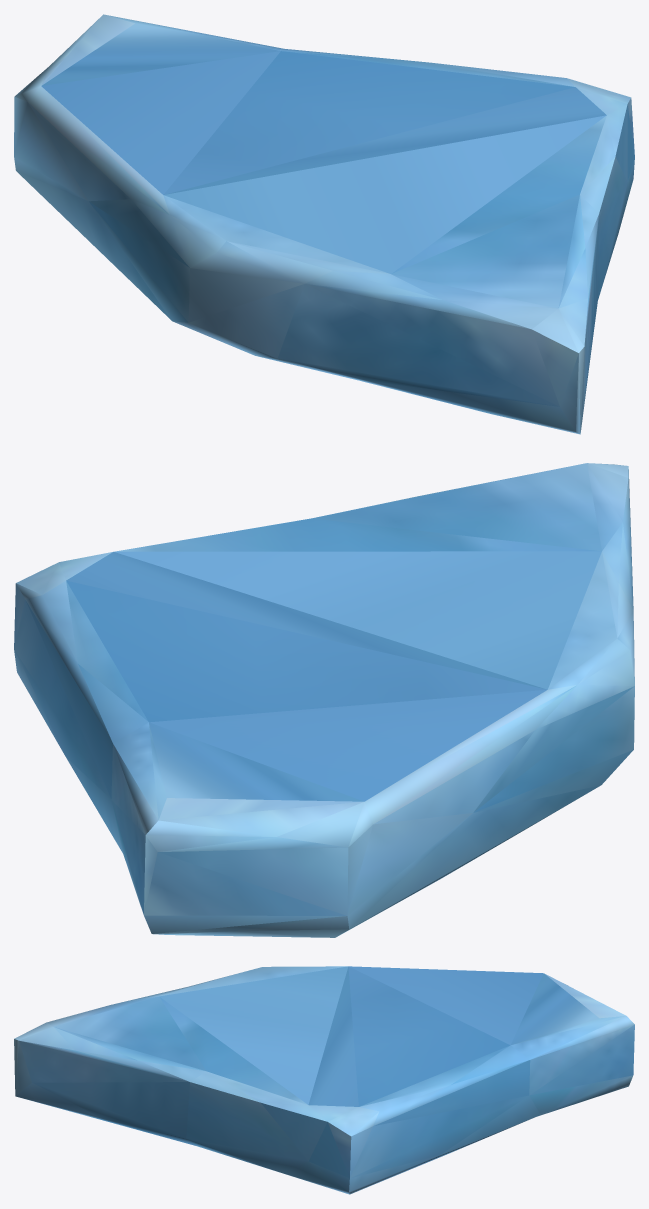
Rendered from placa_hielo_rota_0.glb.
The picture shows the model from 3 angles, top to bottom: view 1: azimuth 30°, elevation 25°; view 2: azimuth 150°, elevation 25°; view 3: azimuth 270°, elevation 25°; orthographic projection. The views are drawn at different scales.
Parts seen in each view (by area): view 1: placa_hielo_rota_0_malla; view 2: placa_hielo_rota_0_malla; view 3: placa_hielo_rota_0_malla.
Part boxes in pixels (left/top/right/bottom): placa_hielo_rota_0_malla: left=14, top=14, right=634, bottom=434; placa_hielo_rota_0_malla: left=14, top=463, right=634, bottom=937; placa_hielo_rota_0_malla: left=14, top=966, right=634, bottom=1194.
Bounding box in the file's own units: 0.132 × 0.0277 × 0.2076.
Materials: 1 (1 with a texture image).
